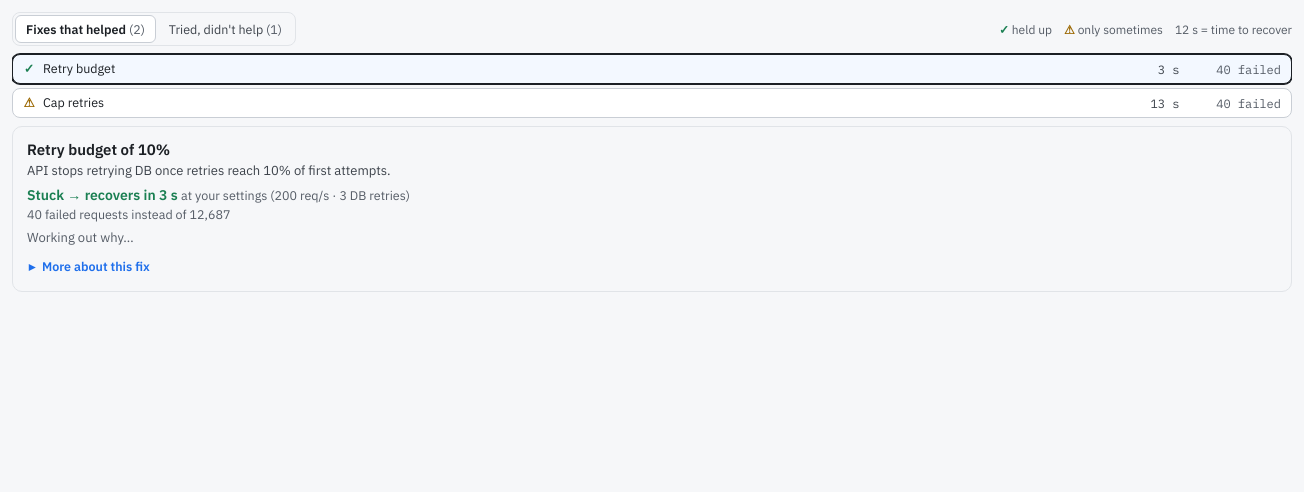
it: FixTabs › lists pros and cons with their counts, so several cons are never missed
The width and height of the screenshot is (1304, 492).
Click the button "▸ More about this fix".
click(88, 266)  # box [27,254,150,280]
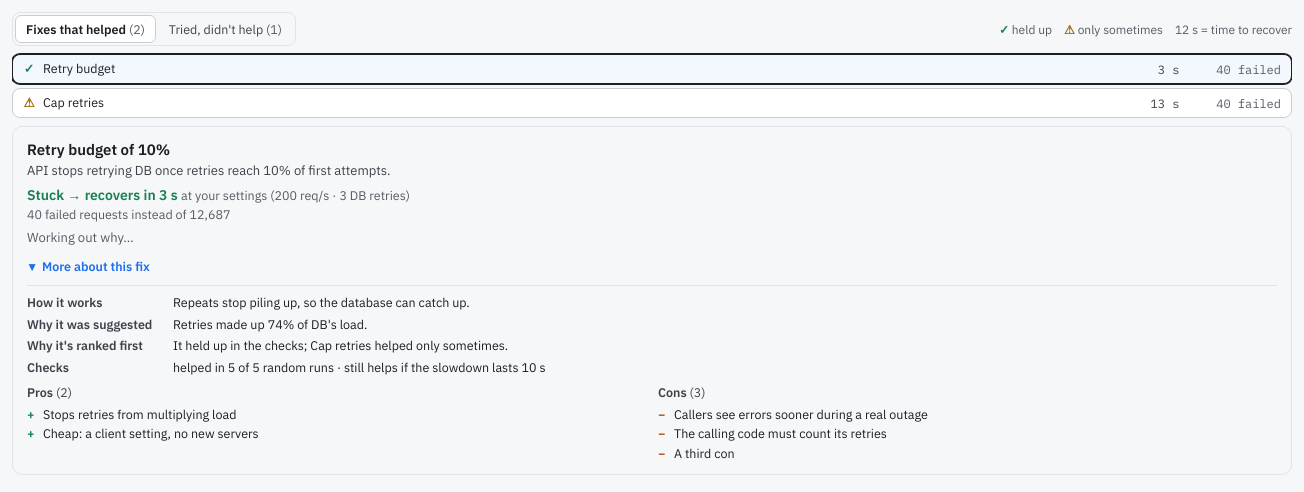
Expected: the heading "Pros (2)" is shown, [27,384,72,400]
Expected: the heading "Cons (3)" is shown, [658,384,706,400]
Expected: the list items read "−Callers see errors sooner during a real outage", "−The calling code must count its retries", "−A third con", in this order, [658,406,928,422]; [658,426,887,442]; [658,445,735,461]
